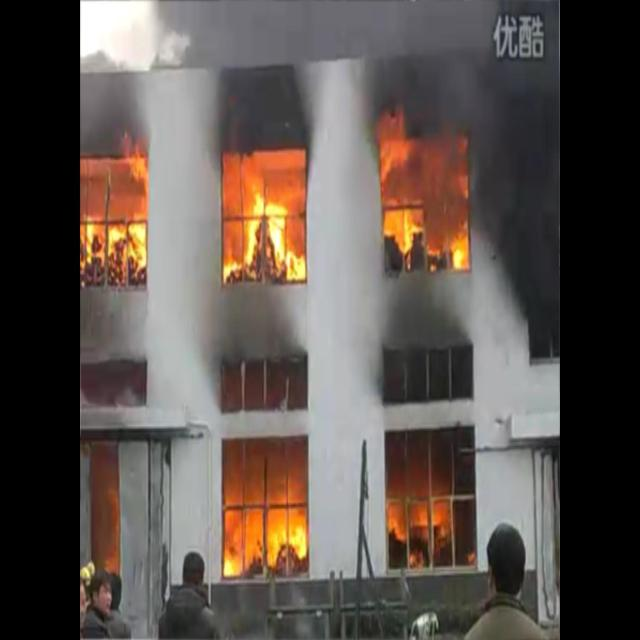fire: (375, 118, 473, 272), (220, 156, 306, 284), (79, 142, 149, 282), (219, 498, 307, 574), (388, 497, 450, 555), (387, 503, 405, 538)
smoke: (477, 71, 556, 312), (364, 20, 484, 121), (208, 284, 299, 363), (222, 66, 306, 144), (82, 69, 142, 145)
